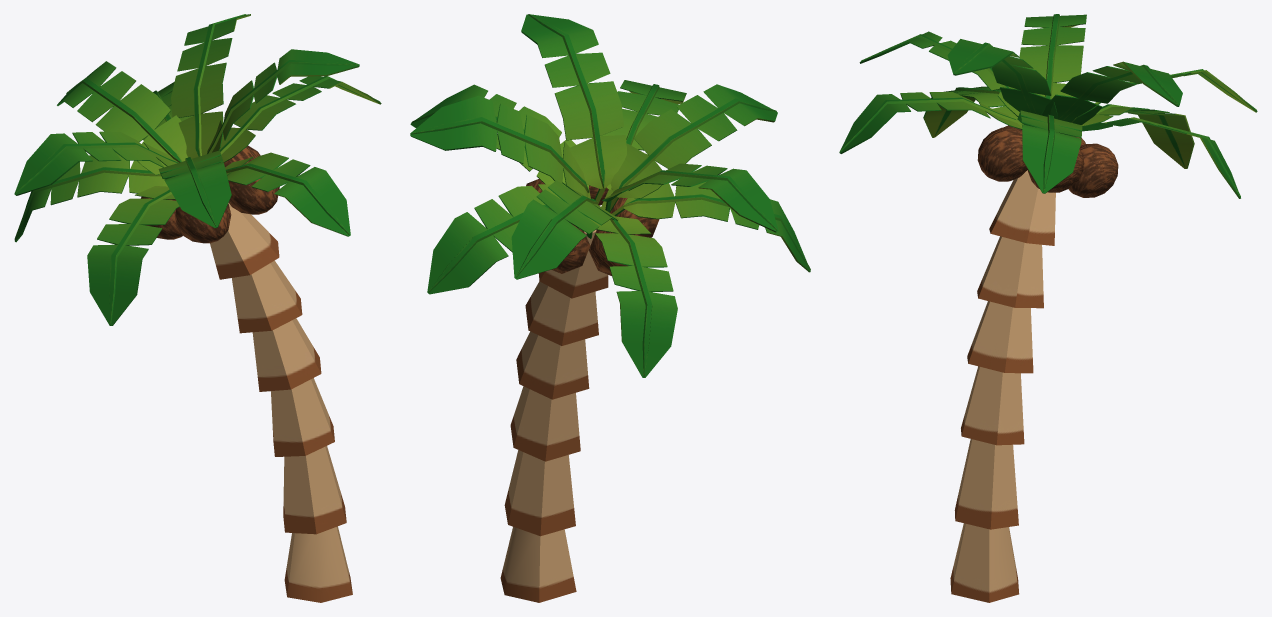
The model's file is Large_palm.fbx.
3 views of the same model, side by side, from view 1: azimuth 30°, elevation 25°; view 2: azimuth 150°, elevation 25°; view 3: azimuth 270°, elevation 25° (orthographic). The views are drawn at different scales.
Visible parts, largest first — view 1: PalmTree9; view 2: PalmTree9; view 3: PalmTree9.
Boxes of the visible parts, left/top/right/bottom form: PalmTree9: left=14, top=14, right=381, bottom=602; PalmTree9: left=410, top=14, right=810, bottom=602; PalmTree9: left=839, top=14, right=1257, bottom=602.
Size of the model in its own units: 7.12 by 10.13 by 7.24.
